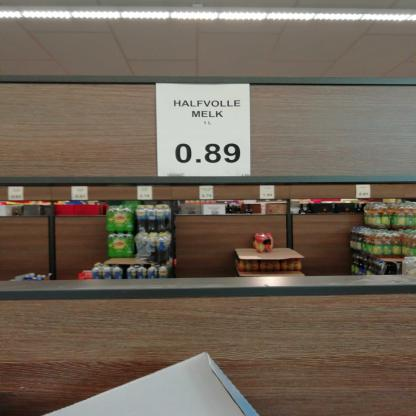prtg: (153, 83, 254, 179)
